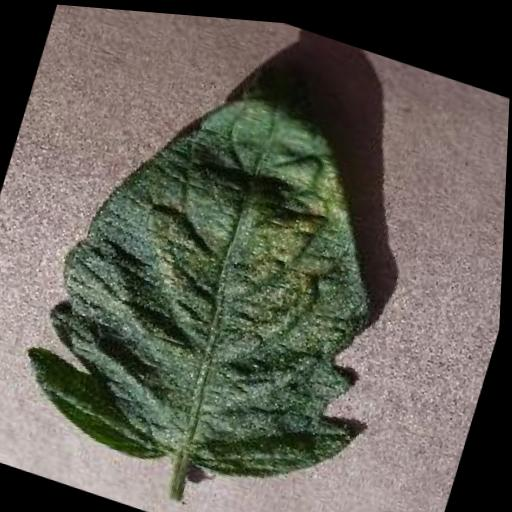Spider Mites: (10, 39, 443, 512)
